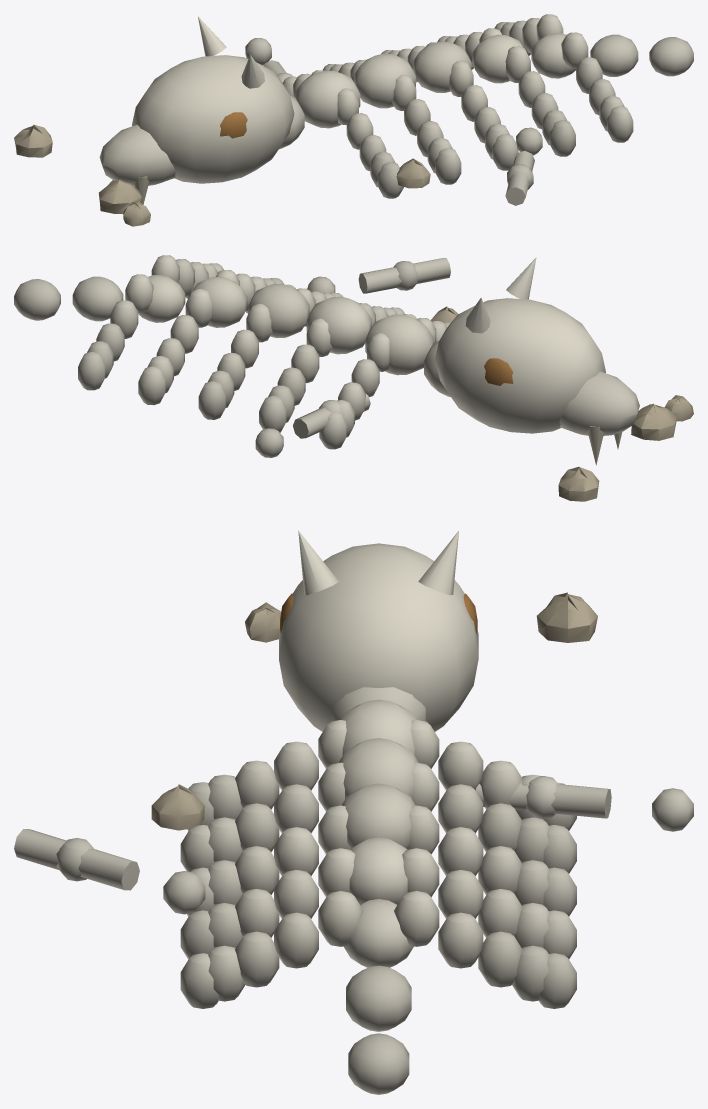
The model's file is cen_tarhut_ossada_0.glb.
3 renders of one model, top to bottom at view 1: azimuth 30°, elevation 25°; view 2: azimuth 150°, elevation 25°; view 3: azimuth 270°, elevation 25°, orthographic. The views are drawn at different scales.
Parts seen in each view (by area): view 1: ossada; view 2: ossada; view 3: ossada.
Boxes of the visible parts, x1,y1,x2,y2 form: ossada: (14,14,693,226); ossada: (14,255,693,501); ossada: (14,530,693,1094).
Size of the model in its own units: 3.43 by 0.796 by 2.15.
